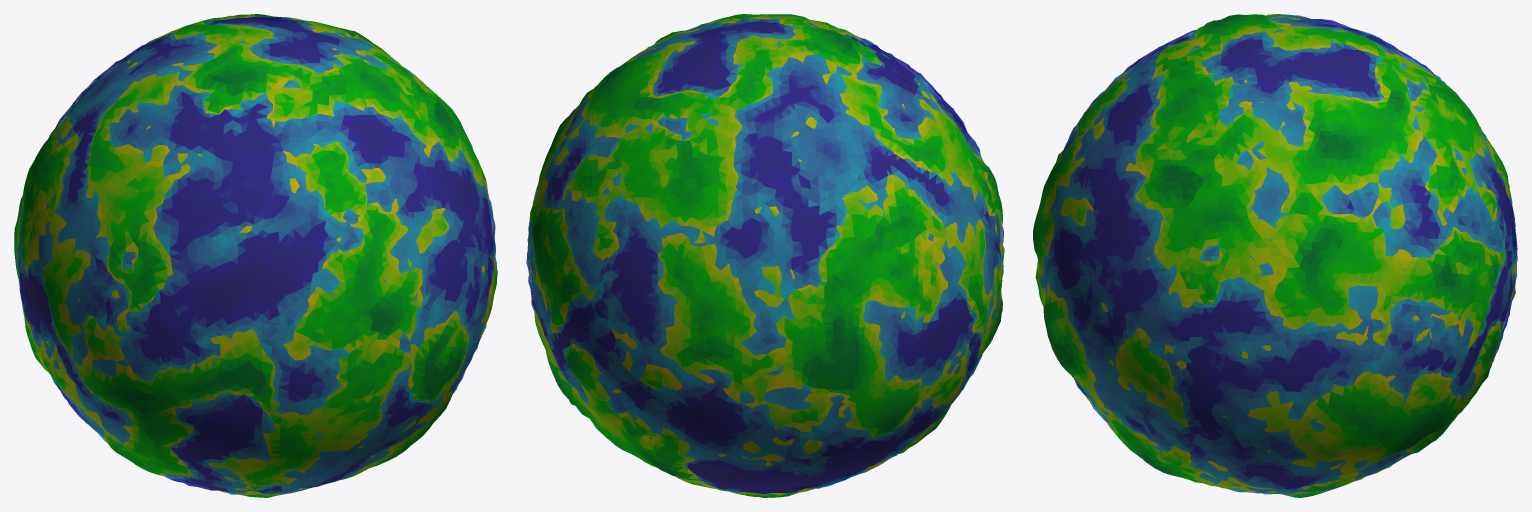
File: planet-transformed.glb
3 renders of one model, left to right at view 1: azimuth 30°, elevation 25°; view 2: azimuth 150°, elevation 25°; view 3: azimuth 270°, elevation 25°, orthographic.
Bounding box in the file's own units: 2.13 × 2.13 × 2.13.
